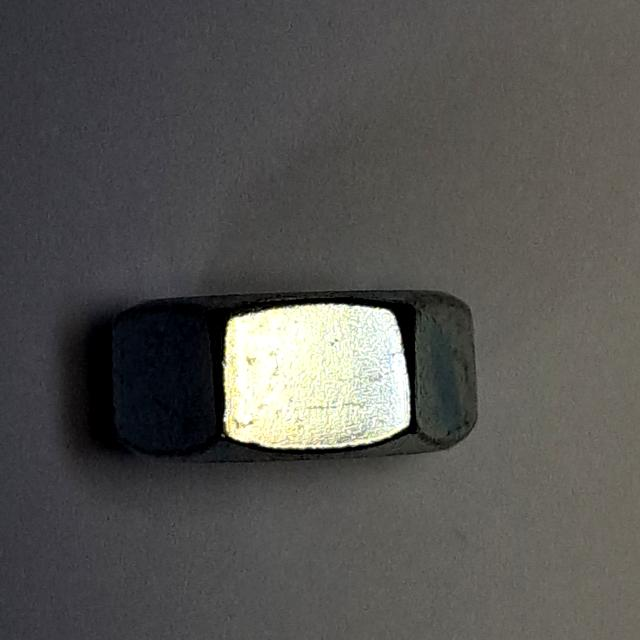Side_Excellent: (96, 271, 505, 478)
